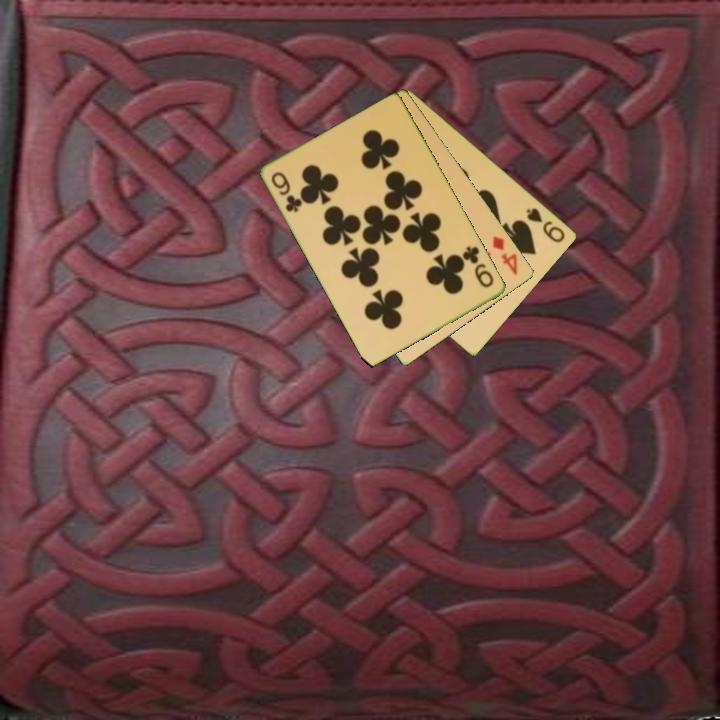4d: (489, 233, 521, 278)
9c: (459, 242, 497, 291), (268, 168, 306, 215)
9s: (523, 204, 568, 246)
